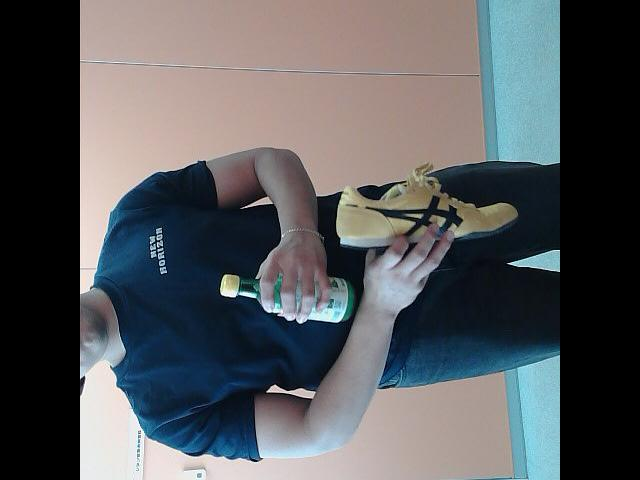Lemon_sapporo: (218, 272, 354, 326)
Shoes: (336, 166, 518, 254)
